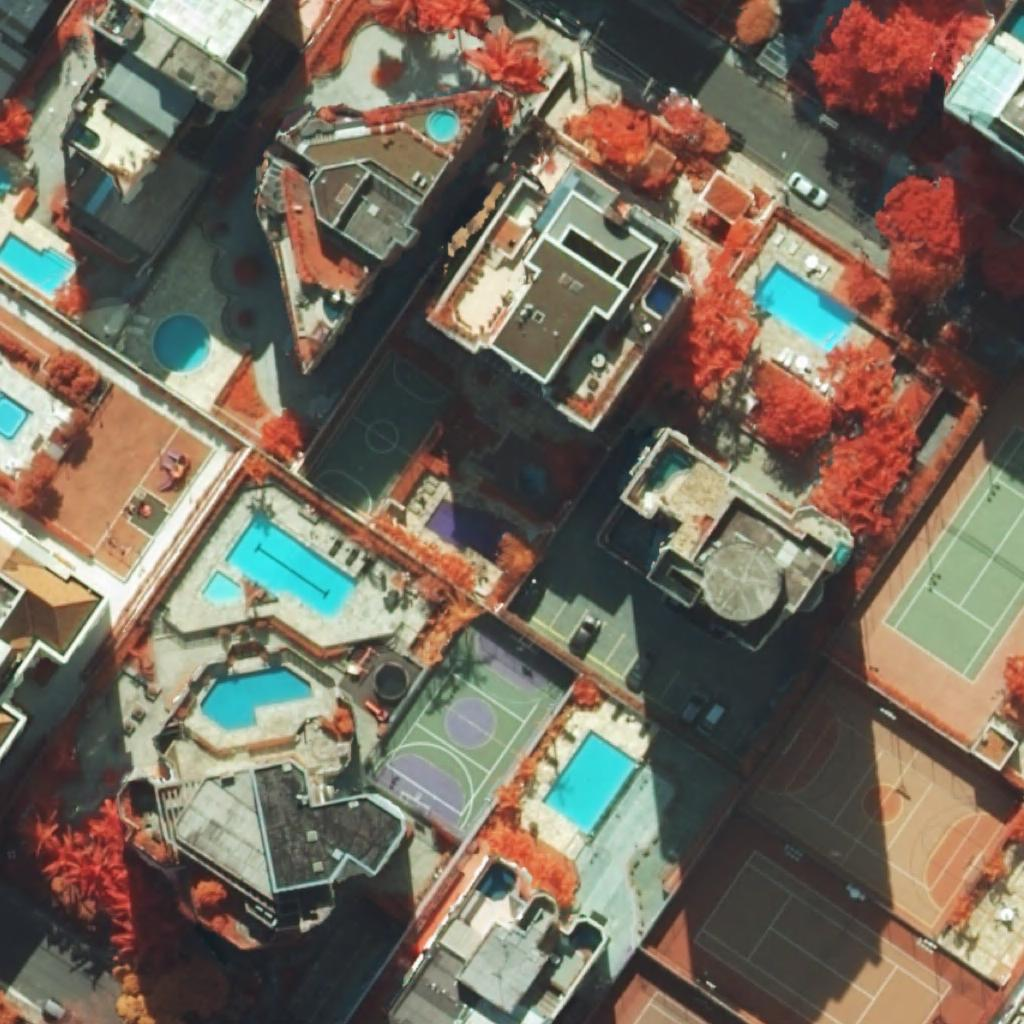pool: (224, 512, 359, 620), (541, 730, 637, 833), (752, 262, 858, 352), (200, 666, 312, 730), (424, 499, 515, 565), (0, 231, 75, 297), (153, 314, 212, 373), (647, 450, 692, 489), (0, 390, 33, 442), (475, 862, 517, 901), (645, 277, 680, 316), (201, 571, 242, 602), (429, 110, 458, 140), (71, 123, 100, 150), (0, 164, 12, 195)
